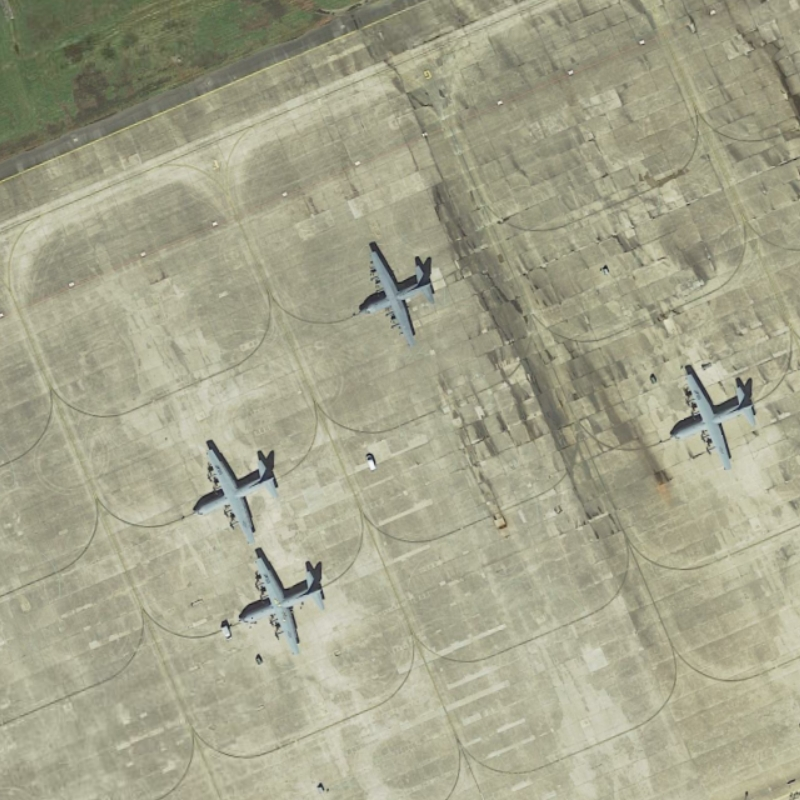A2: (232, 548, 334, 658), (185, 436, 282, 545), (663, 366, 764, 470), (351, 241, 440, 344)
